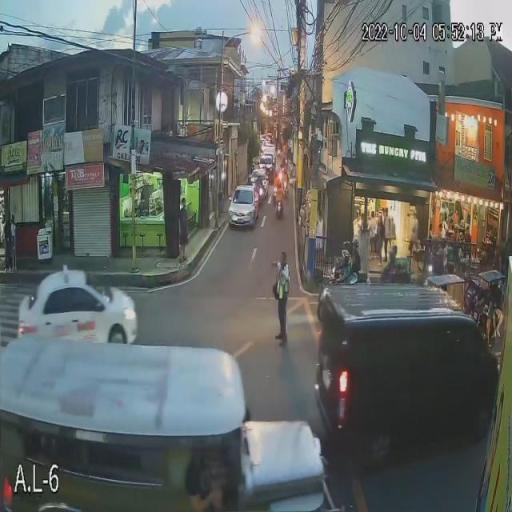helmet: (341, 250, 351, 265)
rider: (341, 266, 349, 284)
